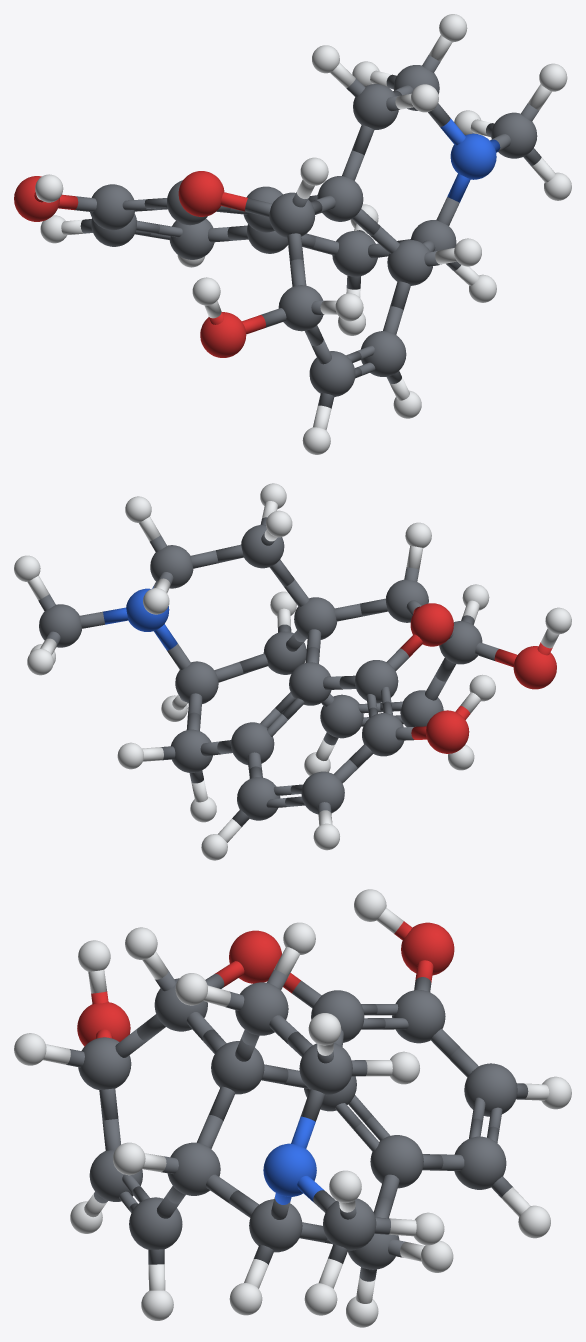
The model's file is morphine.glb.
3 renders of one model, top to bottom at view 1: azimuth 30°, elevation 25°; view 2: azimuth 150°, elevation 25°; view 3: azimuth 270°, elevation 25°, orthographic. The views are drawn at different scales.
Visible parts, largest first — view 1: morphine; view 2: morphine; view 3: morphine.
Part boxes in pixels (<box>): morphine: <box>14,14,571,454</box>; morphine: <box>14,483,571,860</box>; morphine: <box>14,889,571,1327</box>.
Size of the model in its own units: 9.33 by 5.7 by 7.51.
